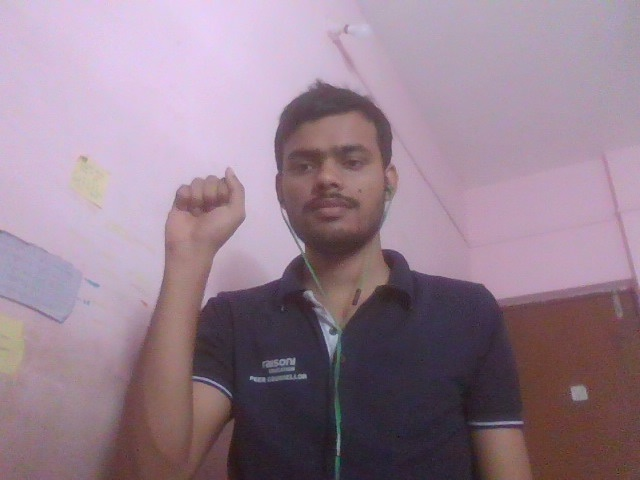Yes: (90, 124, 335, 366), (106, 135, 297, 343)
